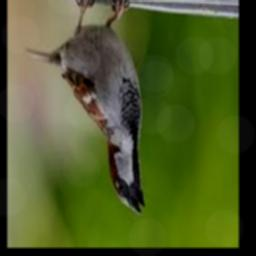Sparrow: (25, 0, 144, 214)
